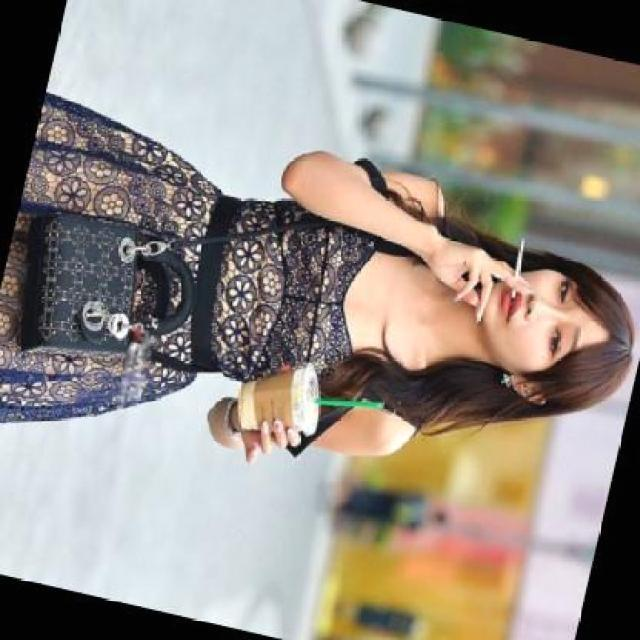smoke: (503, 238, 528, 304)
